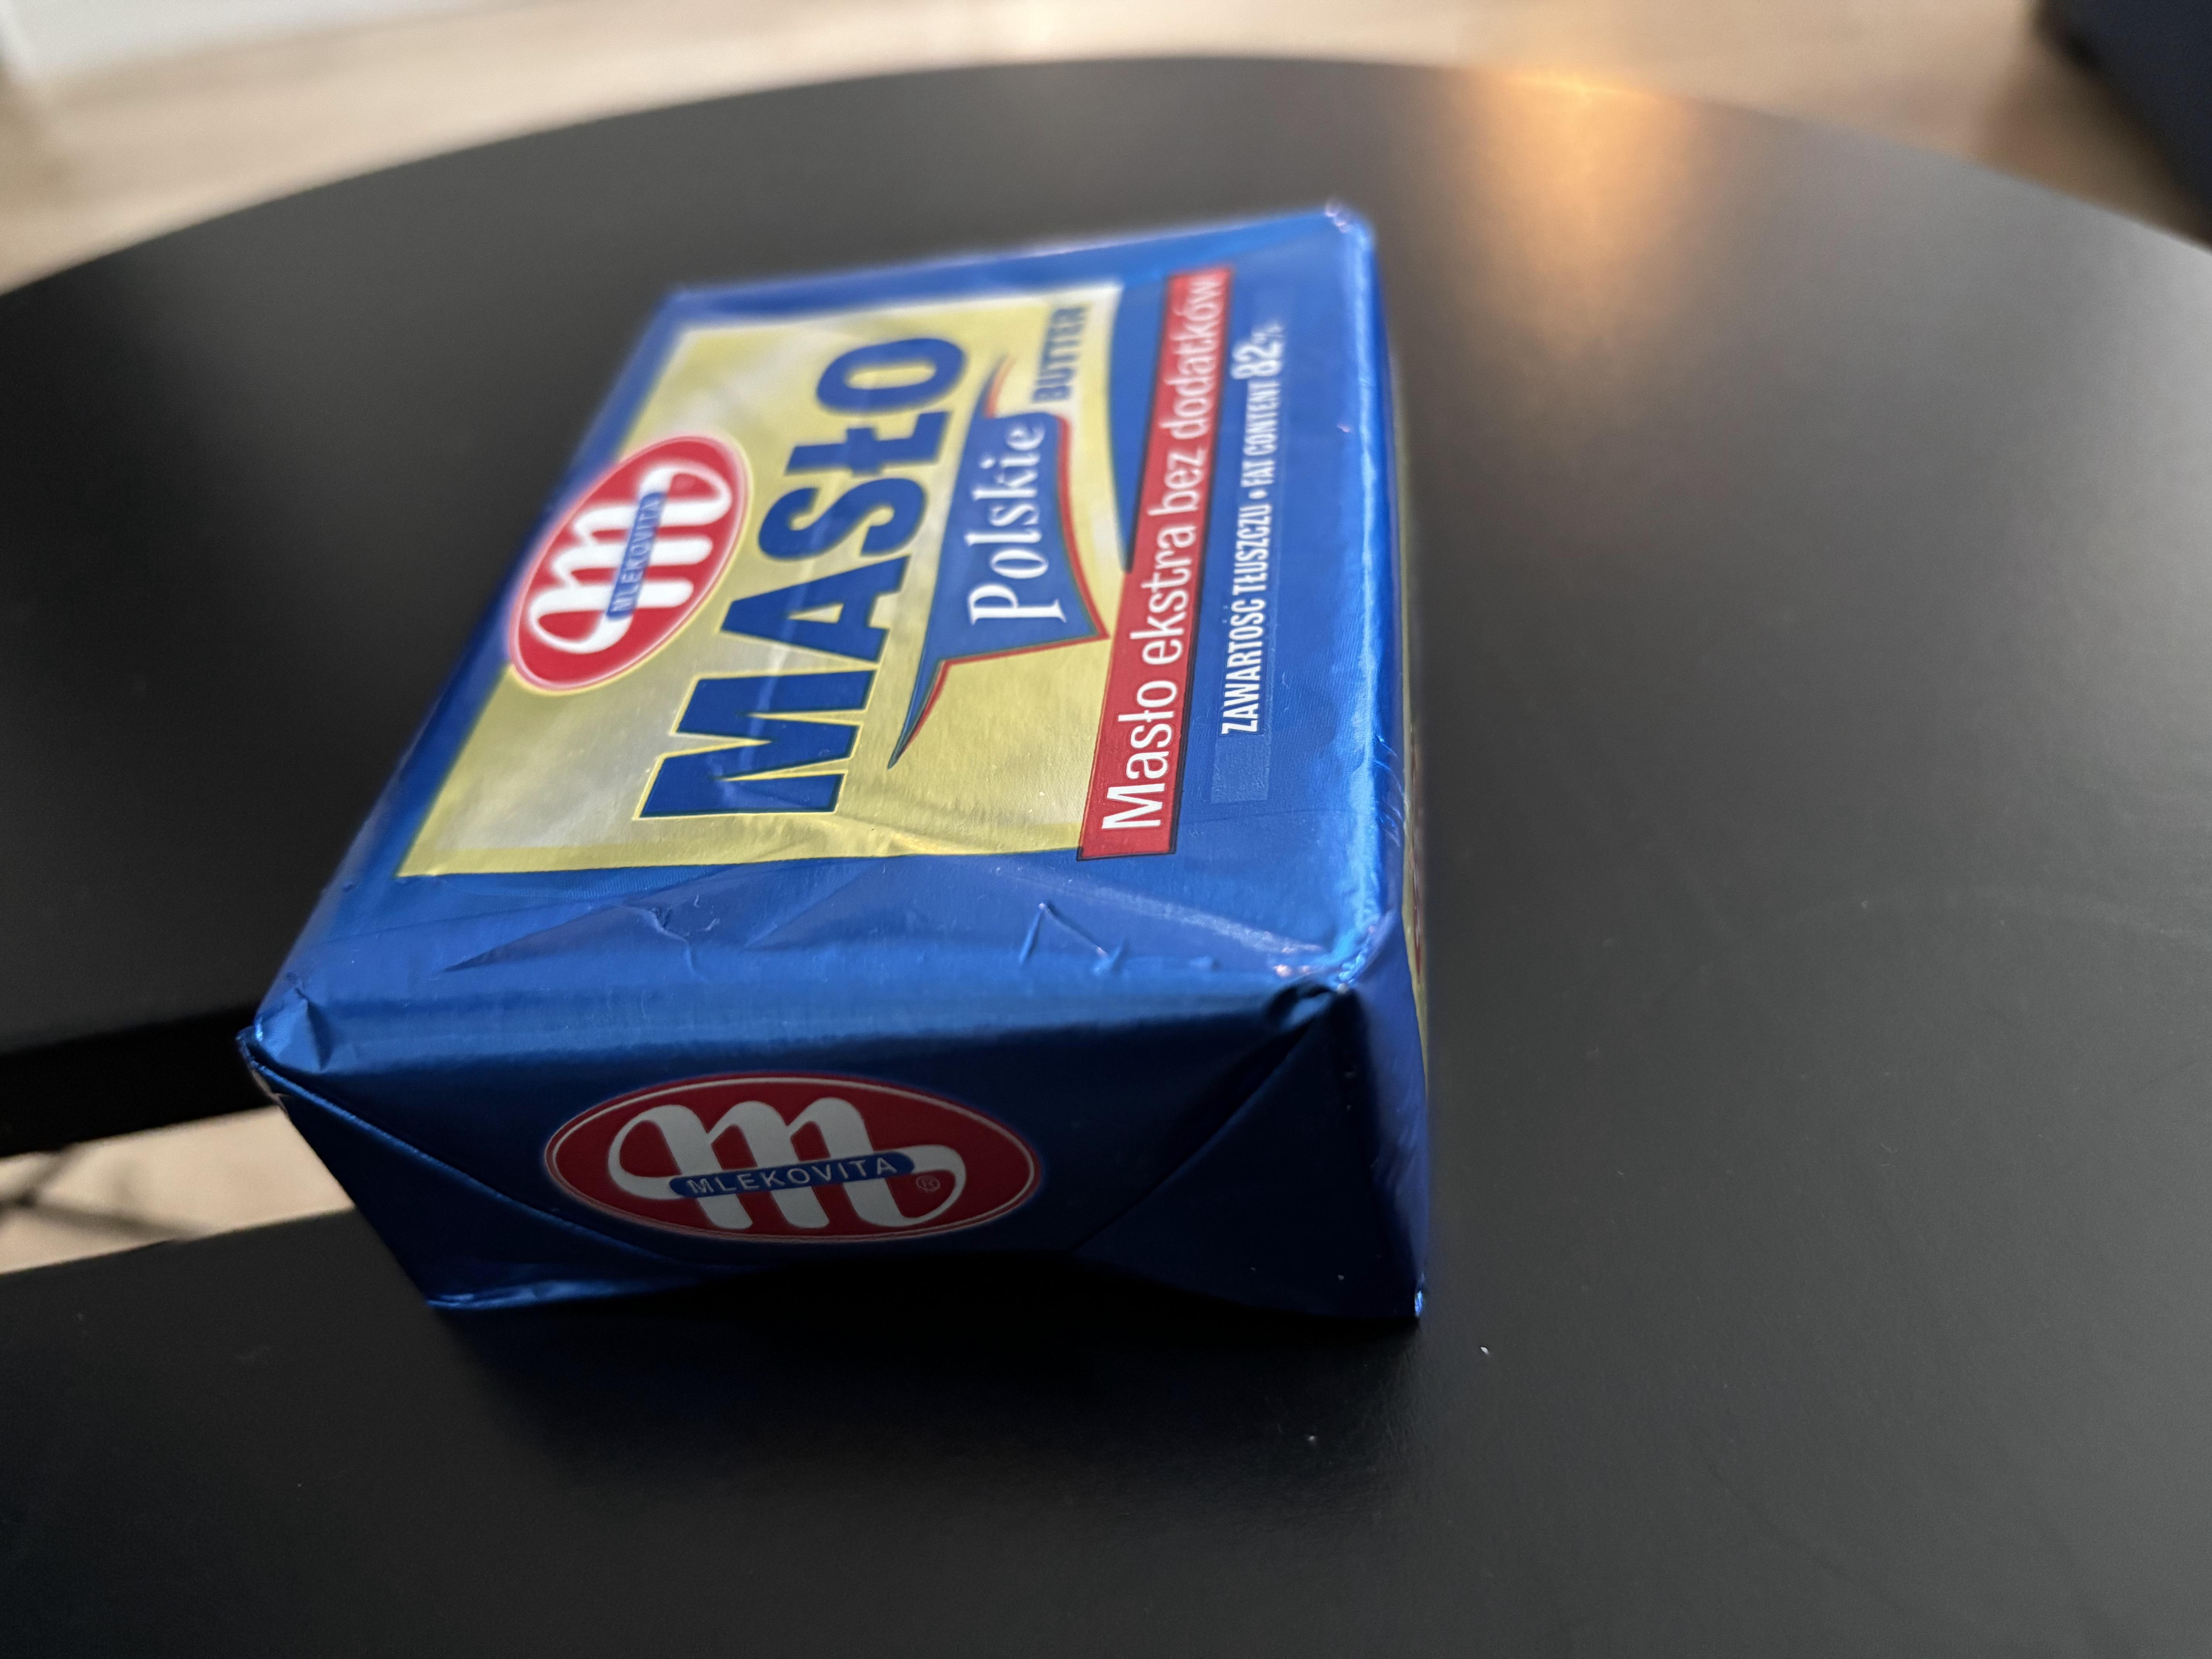Butter: (427, 275, 1447, 1272)
